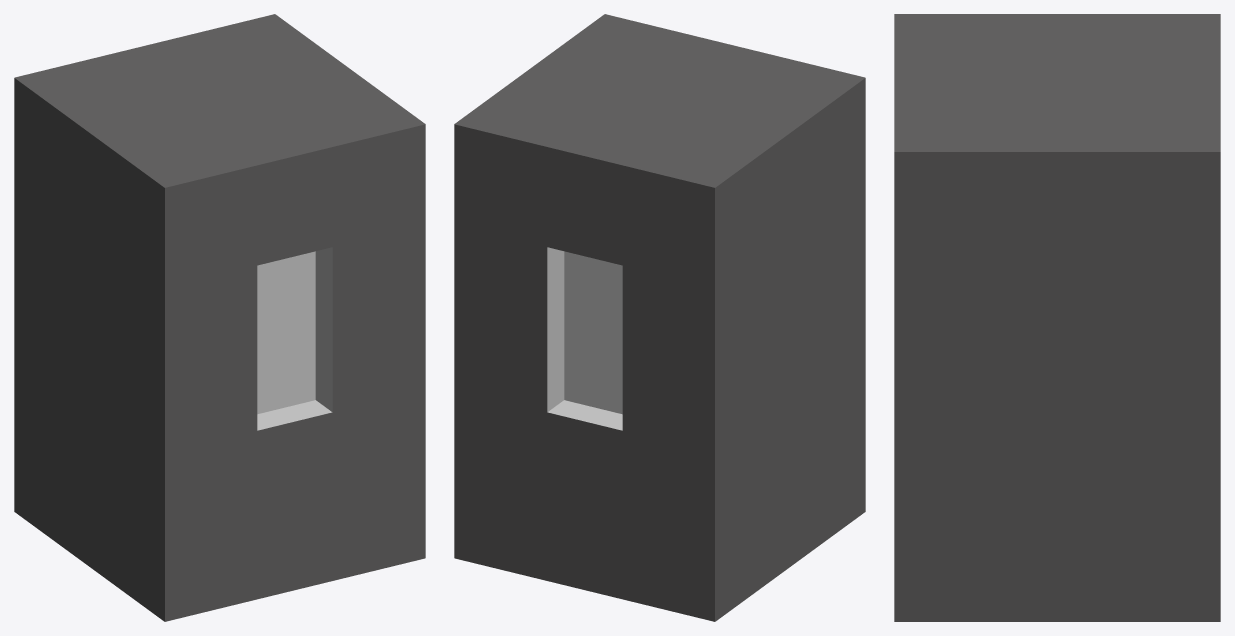
The model's file is castle_top_of_tower_piece.fbx.
3 renders of one model, left to right at view 1: azimuth 30°, elevation 25°; view 2: azimuth 150°, elevation 25°; view 3: azimuth 270°, elevation 25°, orthographic. The views are drawn at different scales.
Visible parts, largest first — view 1: tower_piece; view 2: tower_piece; view 3: tower_piece.
Boxes of the visible parts, <box> form: tower_piece: <box>14,14,425,621</box>; tower_piece: <box>454,14,865,621</box>; tower_piece: <box>894,14,1220,621</box>.
Bounding box in the file's own units: 394 × 626 × 394.
1 material, 1 textured.
